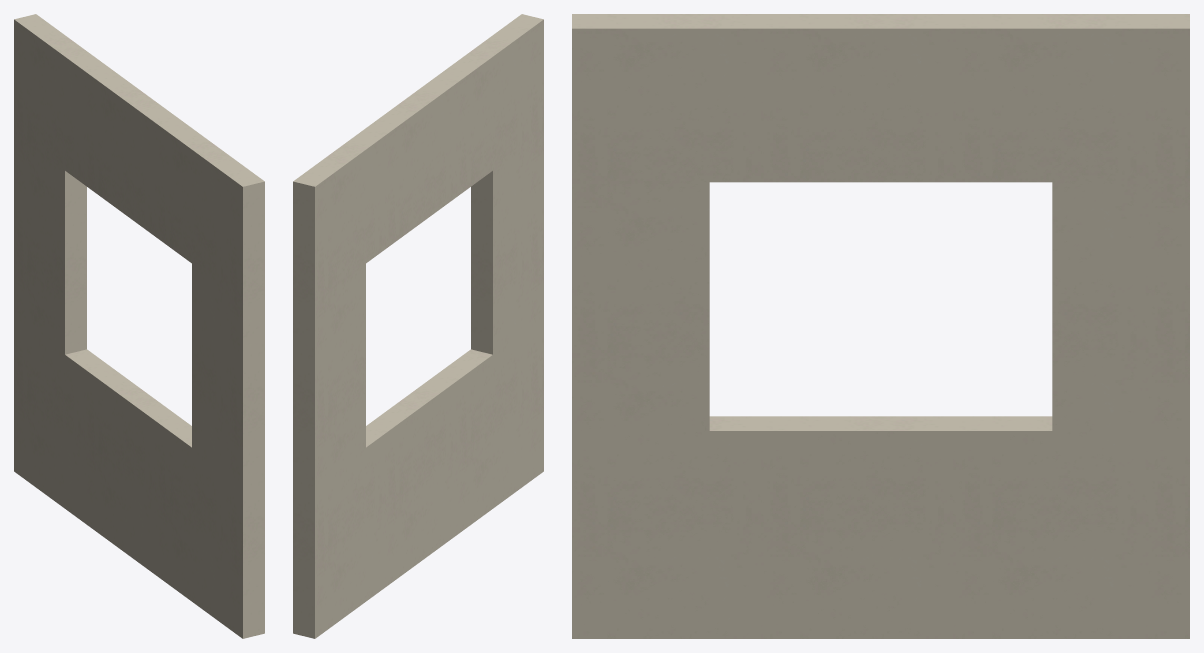
Rendered from soupwindwall031.obj.
The picture shows the model from 3 angles, left to right: view 1: azimuth 30°, elevation 25°; view 2: azimuth 150°, elevation 25°; view 3: azimuth 270°, elevation 25°; orthographic projection. The views are drawn at different scales.
Parts seen in each view (by area): view 1: soupwindwall031_high_1; view 2: soupwindwall031_high_1; view 3: soupwindwall031_high_1.
Part boxes in pixels (x1=…): soupwindwall031_high_1: x1=14, y1=14, x2=264, y2=638; soupwindwall031_high_1: x1=293, y1=14, x2=543, y2=638; soupwindwall031_high_1: x1=572, y1=14, x2=1189, y2=638.
Size of the model in its own units: 0.1504 by 2.95 by 2.7.
